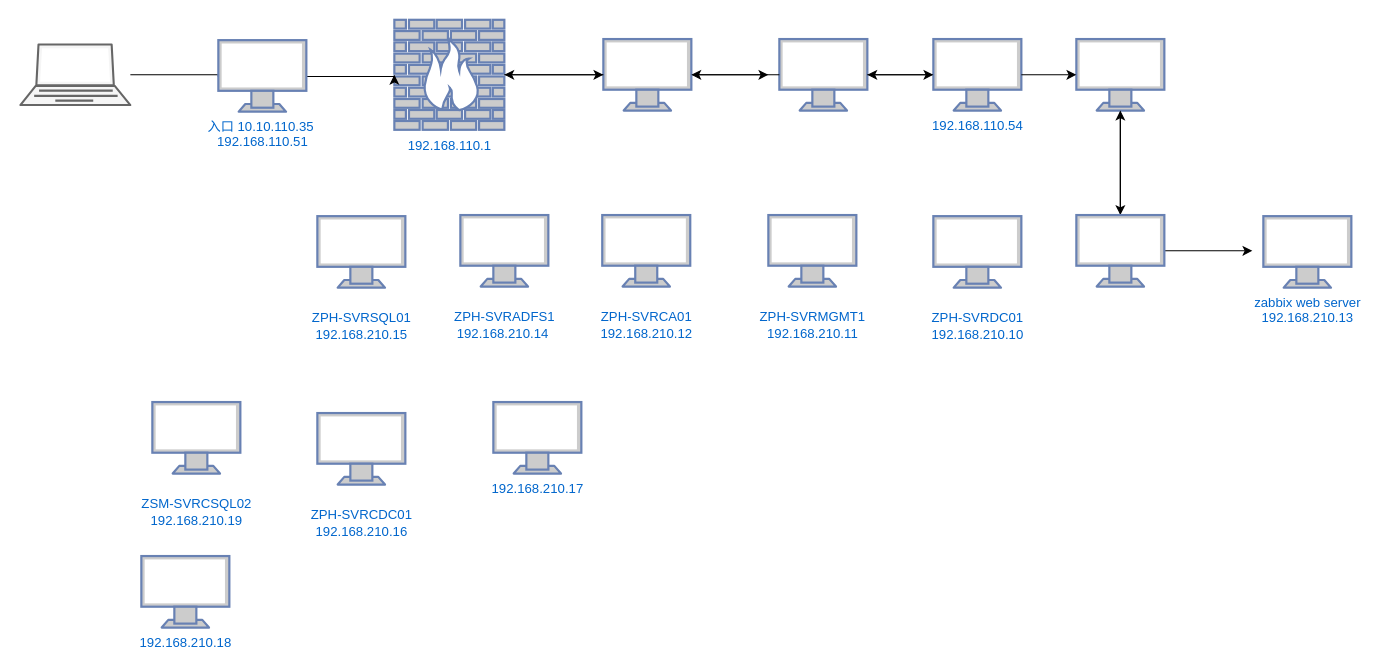
Image size: 1379x670. Some labels were removed from this diagram. Each missing label, with the centre of its shape:
10.10.17.46 Kali: point (75, 74)
DC 192.168.110.55: point (1120, 74)
Linux zabbix 192.168.210.16: point (1120, 250)
PNT-SVRBPA 192.168.110.53: point (823, 74)
PNT-SVRSVC 192.168.110.52: point (647, 74)
